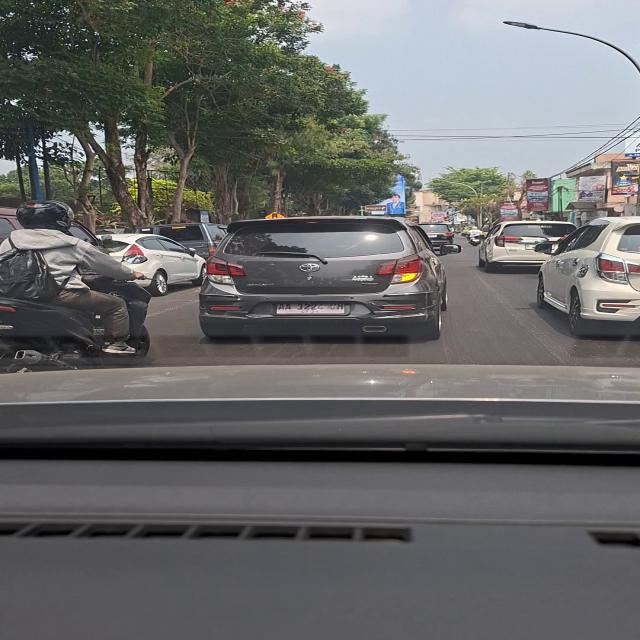WithHelmet: (0, 200, 148, 355), (467, 227, 484, 242)
